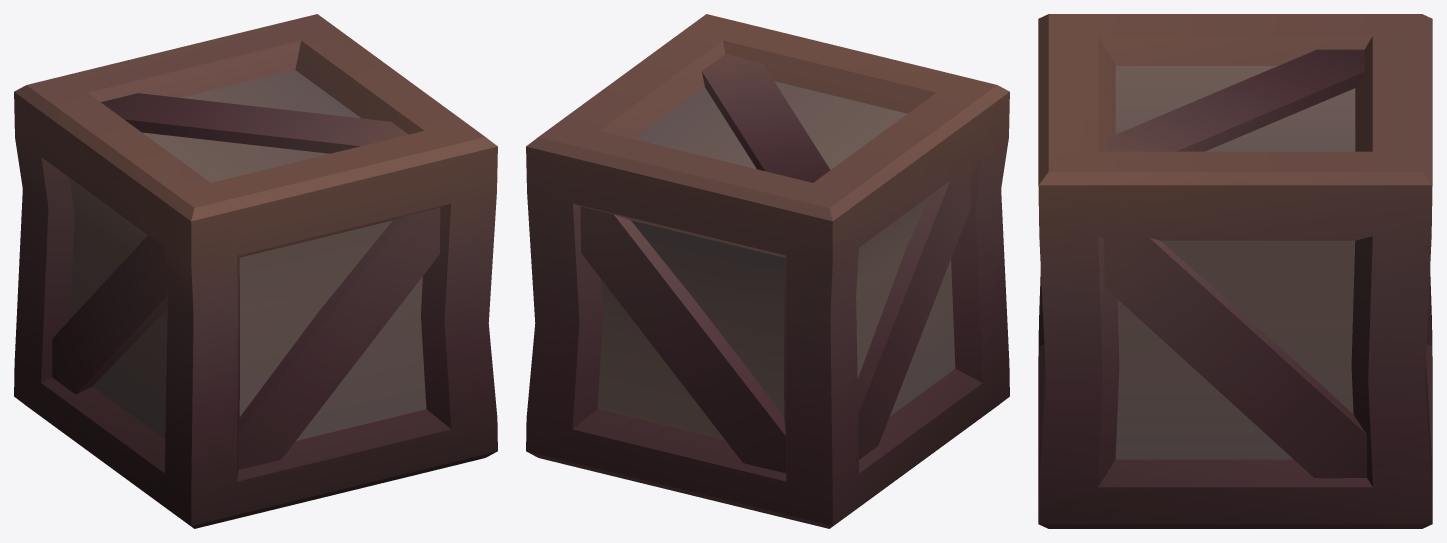
File: SM_Crate.fbx
3 views of the same model, side by side, from view 1: azimuth 30°, elevation 25°; view 2: azimuth 150°, elevation 25°; view 3: azimuth 270°, elevation 25° (orthographic). The views are drawn at different scales.
Parts seen in each view (by area): view 1: SM_Crate; view 2: SM_Crate; view 3: SM_Crate.
Boxes of the visible parts, x1=… form: SM_Crate: x1=14, y1=14, x2=497, y2=528; SM_Crate: x1=526, y1=14, x2=1009, y2=528; SM_Crate: x1=1038, y1=14, x2=1432, y2=528.
Size of the model in its own units: 76.09 by 76.06 by 76.09.
Materials: 1 (1 with a texture image).
